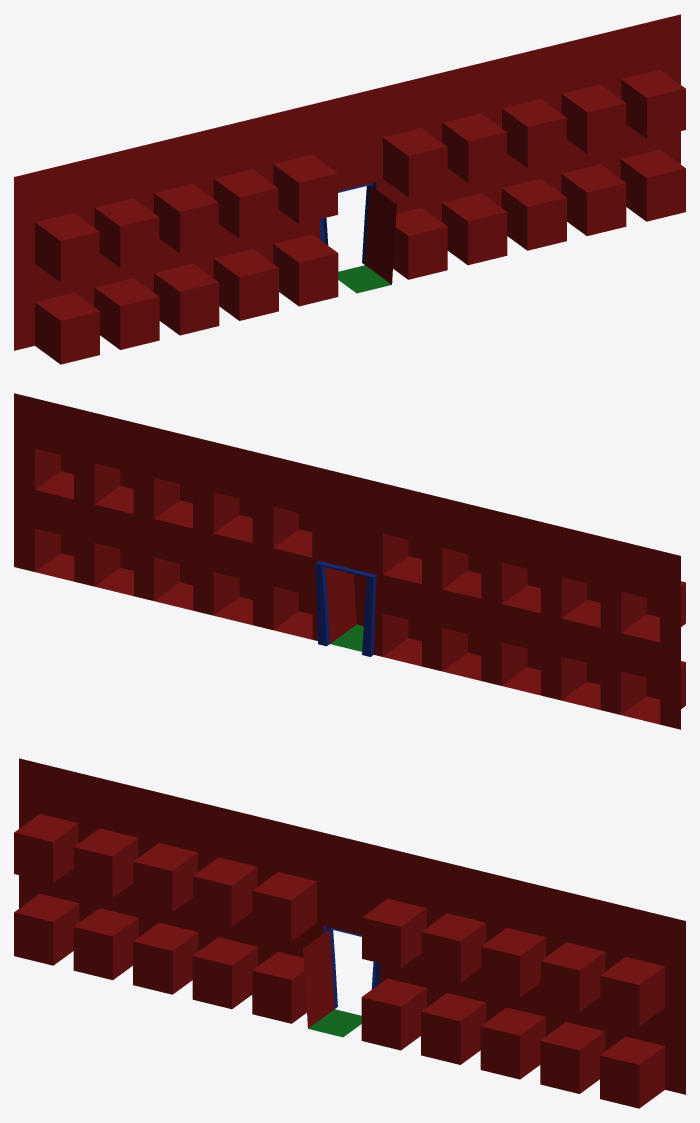
Rendered from SM_Wall_Bottom_SE.fbx.
3 renders of one model, top to bottom at view 1: azimuth 30°, elevation 25°; view 2: azimuth 150°, elevation 25°; view 3: azimuth 330°, elevation 25°, orthographic.
Visible parts, largest first — view 1: SM_Wall_Bottom_SE; view 2: SM_Wall_Bottom_SE; view 3: SM_Wall_Bottom_SE.
Part boxes in pixels (x1,y1,x2,y2): SM_Wall_Bottom_SE: [14, 14, 685, 364]; SM_Wall_Bottom_SE: [14, 393, 685, 729]; SM_Wall_Bottom_SE: [14, 758, 685, 1108].
Bounding box in the file's own units: 137 × 34.13 × 10.69.
